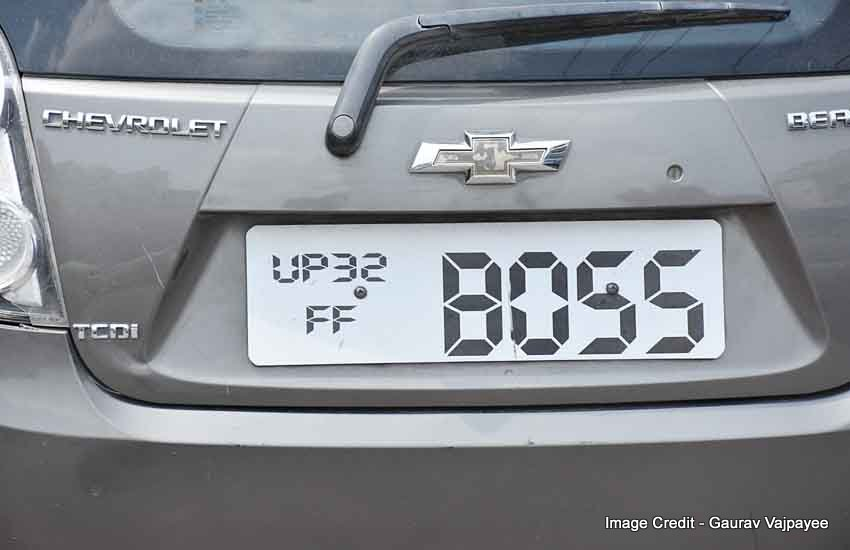number_plate: (244, 219, 728, 364)
